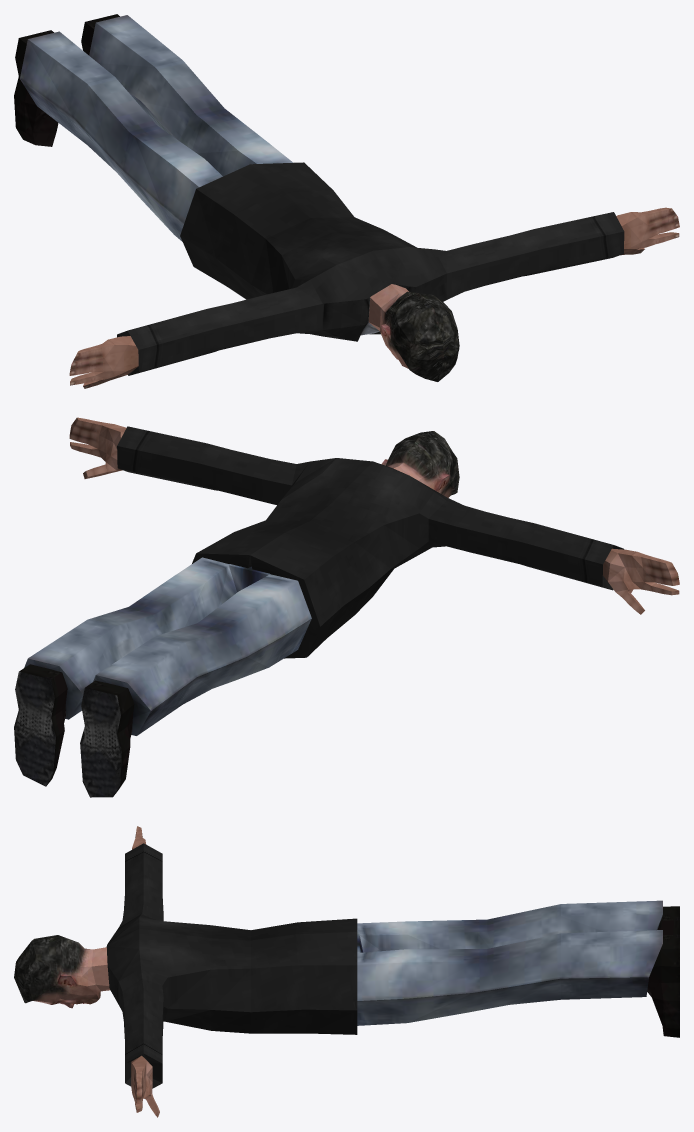
The model's file is civilianmaleB_wtf.obj.
3 renders of one model, top to bottom at view 1: azimuth 30°, elevation 25°; view 2: azimuth 150°, elevation 25°; view 3: azimuth 270°, elevation 25°, orthographic. The views are drawn at different scales.
Parts seen in each view (by area): view 1: group2; view 2: group2; view 3: group2.
Part boxes in pixels (x1=…): group2: x1=14, y1=14, x2=679, y2=388; group2: x1=14, y1=417, x2=679, y2=797; group2: x1=14, y1=826, x2=679, y2=1117.
Size of the model in its own units: 619 by 111 by 660.
